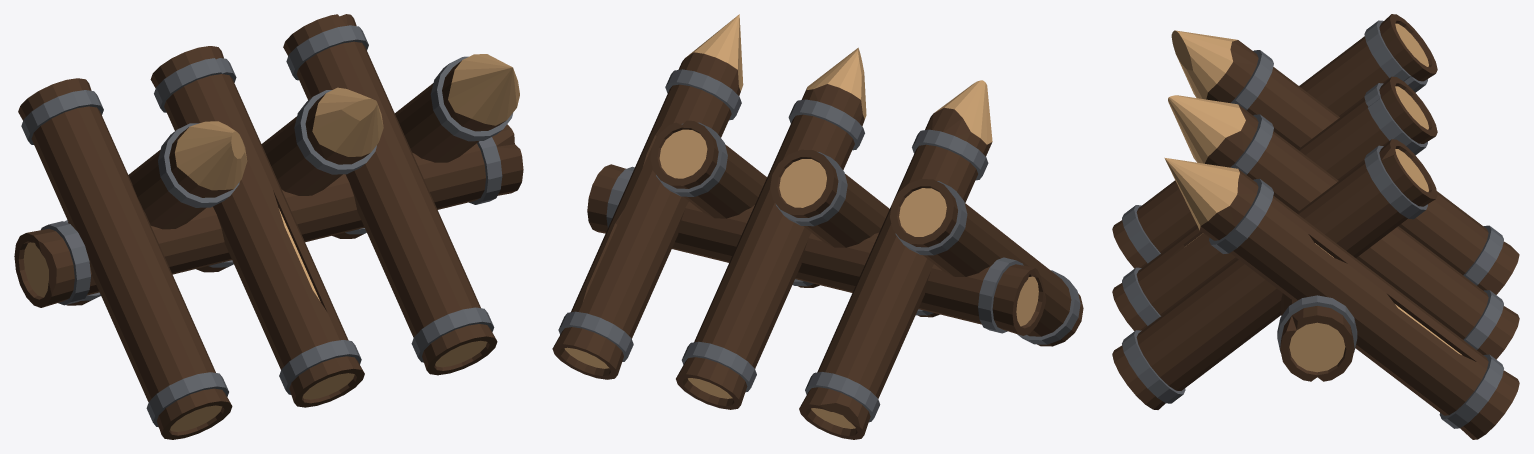
Rendered from Barricade.fbx.
3 renders of one model, left to right at view 1: azimuth 30°, elevation 25°; view 2: azimuth 150°, elevation 25°; view 3: azimuth 270°, elevation 25°, orthographic. The views are drawn at different scales.
Parts seen in each view (by area): view 1: Barricade 1; view 2: Barricade 1; view 3: Barricade 1.
Boxes of the visible parts, x1=… form: Barricade 1: x1=14, y1=14, x2=523, y2=439; Barricade 1: x1=552, y1=14, x2=1083, y2=439; Barricade 1: x1=1112, y1=14, x2=1519, y2=439.
Bounding box in the file's own units: 4.66 × 2.73 × 3.61.
